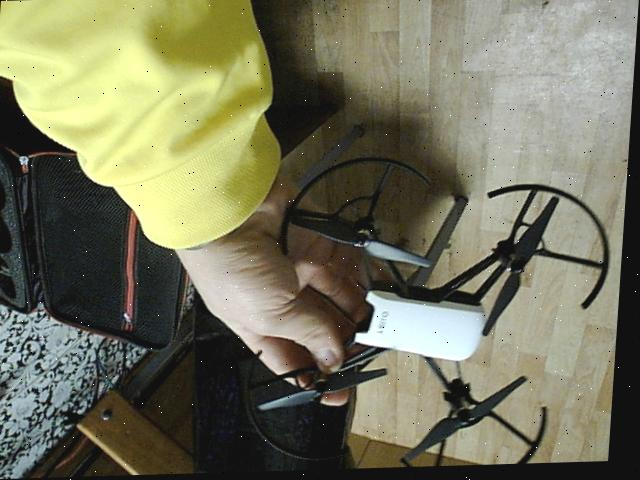drone: (239, 145, 631, 474)
